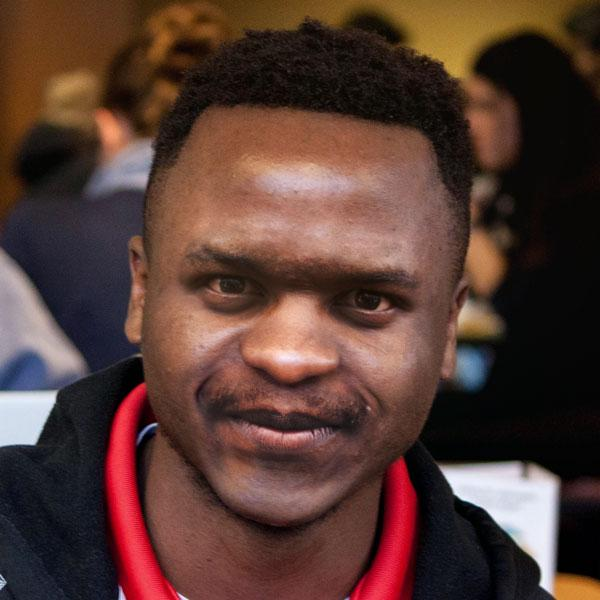Eyes: (323, 276, 409, 329), (185, 258, 272, 309)
